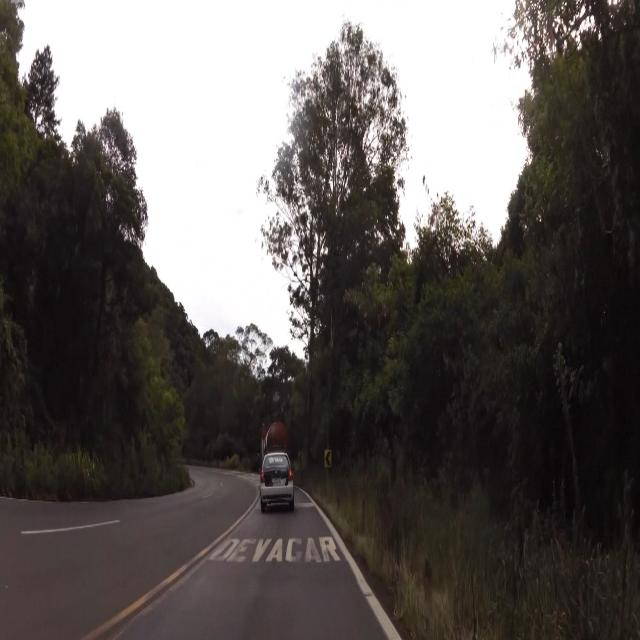Del: (324, 447, 334, 472)
